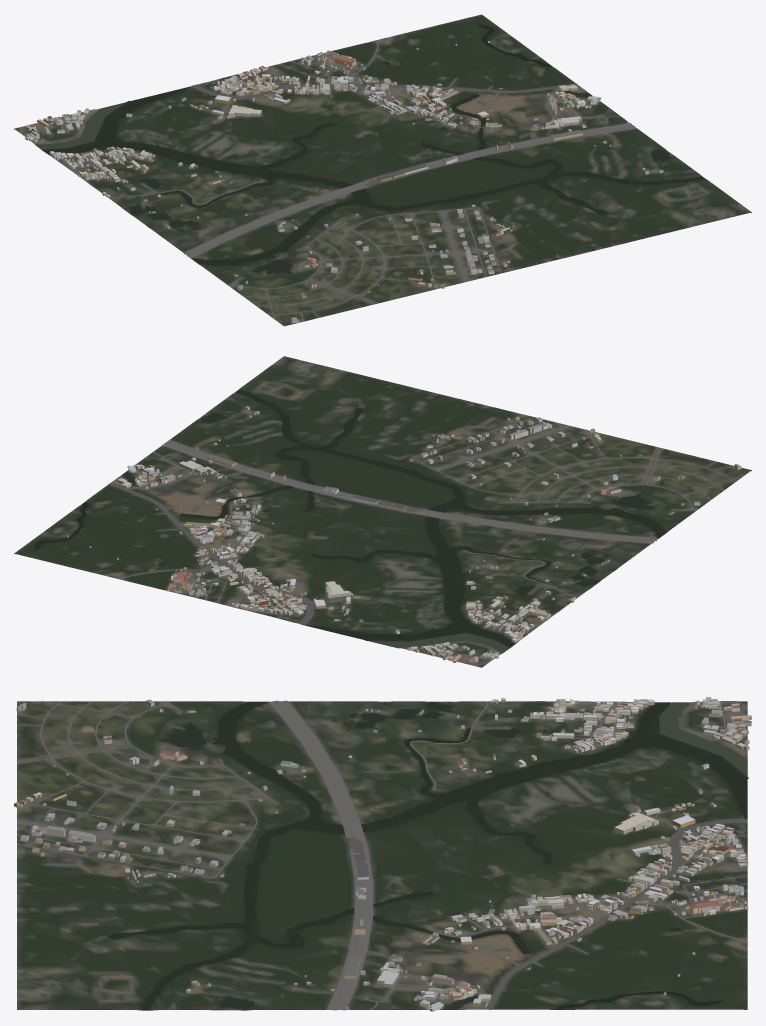
3 renders of one model, top to bottom at view 1: azimuth 30°, elevation 25°; view 2: azimuth 150°, elevation 25°; view 3: azimuth 270°, elevation 25°, orthographic. The views are drawn at different scales.
Visible parts, largest first — view 1: ground, buildings, water, roads; view 2: ground, buildings, water, roads; view 3: ground, buildings, water, roads.
Part boxes in pixels (box(x1,y1,x2,y2)): ground: box(14, 14, 751, 326); buildings: box(25, 41, 663, 323); water: box(35, 24, 704, 274); roads: box(24, 39, 636, 321); ground: box(14, 356, 751, 667); buildings: box(66, 406, 741, 663); water: box(35, 390, 665, 652); roads: box(108, 417, 742, 660); ground: box(17, 701, 747, 1010); buildings: box(14, 697, 751, 1011); water: box(109, 701, 748, 1009); roads: box(17, 700, 747, 1010).
Bounding box in the file's own units: 1415 × 19.79 × 1415.
